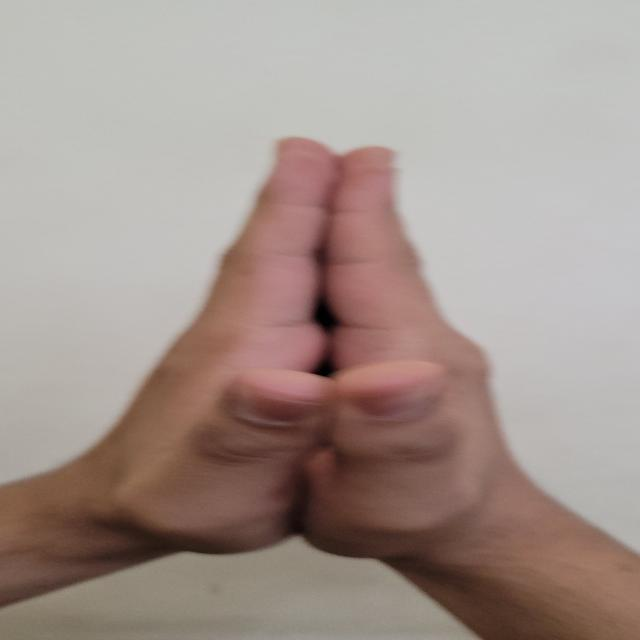Thank You: (62, 108, 594, 594)
